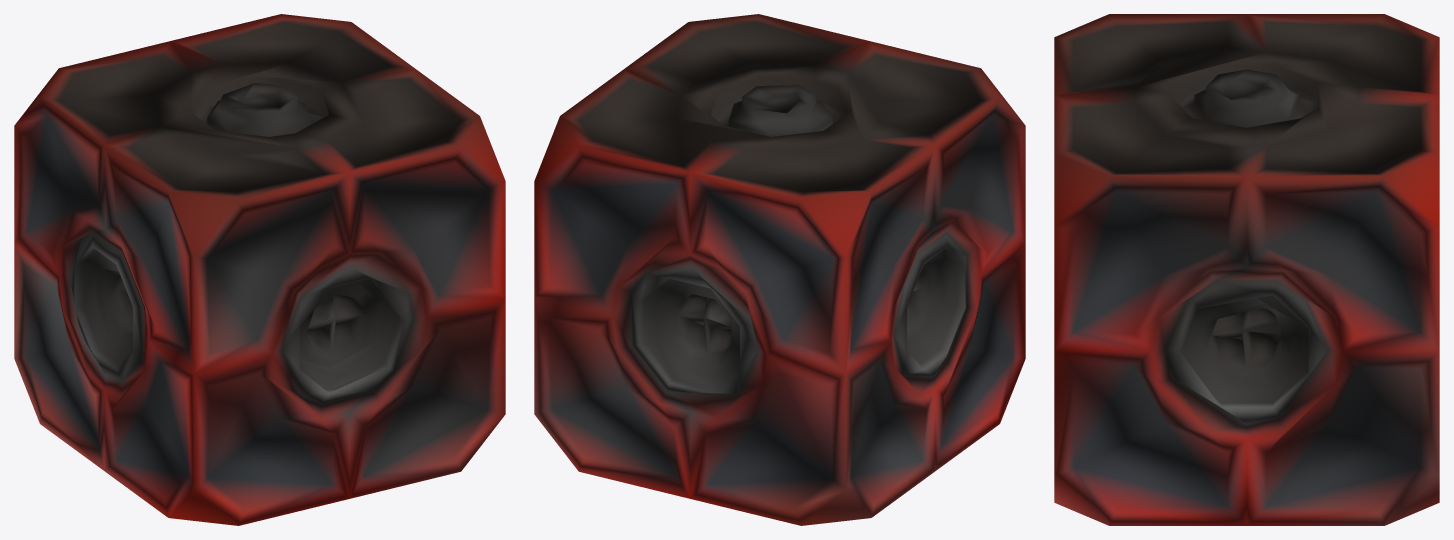
Rendered from solar_box_lod3.glb.
The picture shows the model from 3 angles, left to right: view 1: azimuth 30°, elevation 25°; view 2: azimuth 150°, elevation 25°; view 3: azimuth 270°, elevation 25°; orthographic projection. The views are drawn at different scales.
Parts seen in each view (by area): view 1: solar_box; view 2: solar_box; view 3: solar_box.
Part boxes in pixels (x1,y1,x2,y2): solar_box: [14, 14, 505, 525]; solar_box: [534, 14, 1025, 525]; solar_box: [1054, 14, 1439, 525].
Bounding box in the file's own units: 2 × 2.05 × 2.
